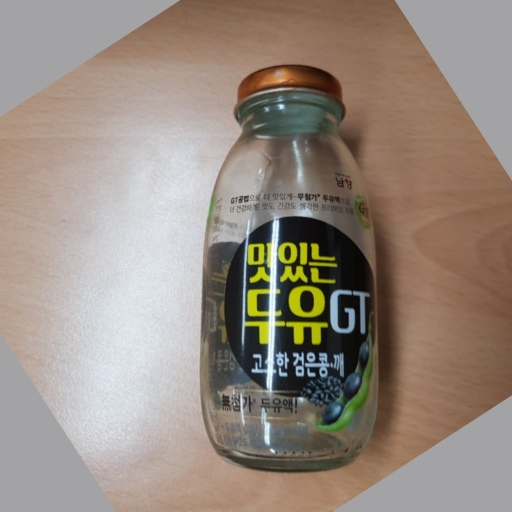Glass_4: (195, 67, 389, 475)
